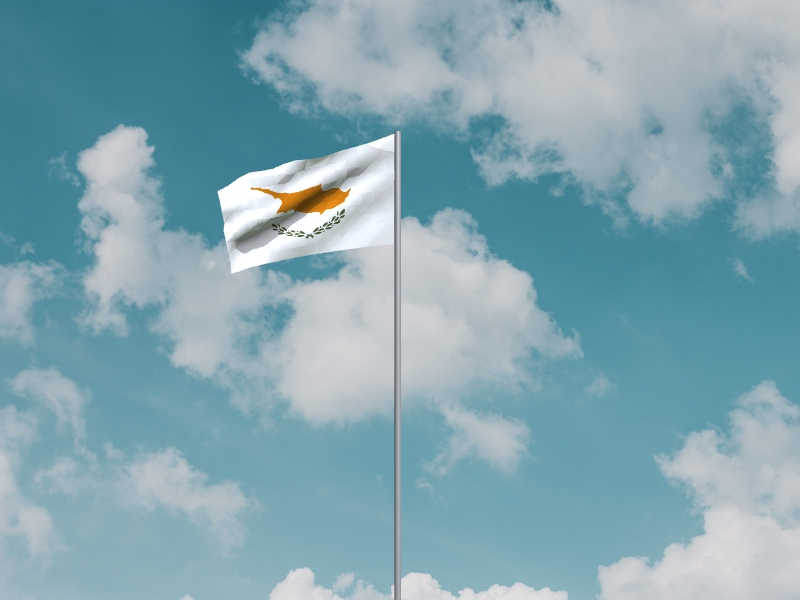cy: (216, 134, 395, 276)
